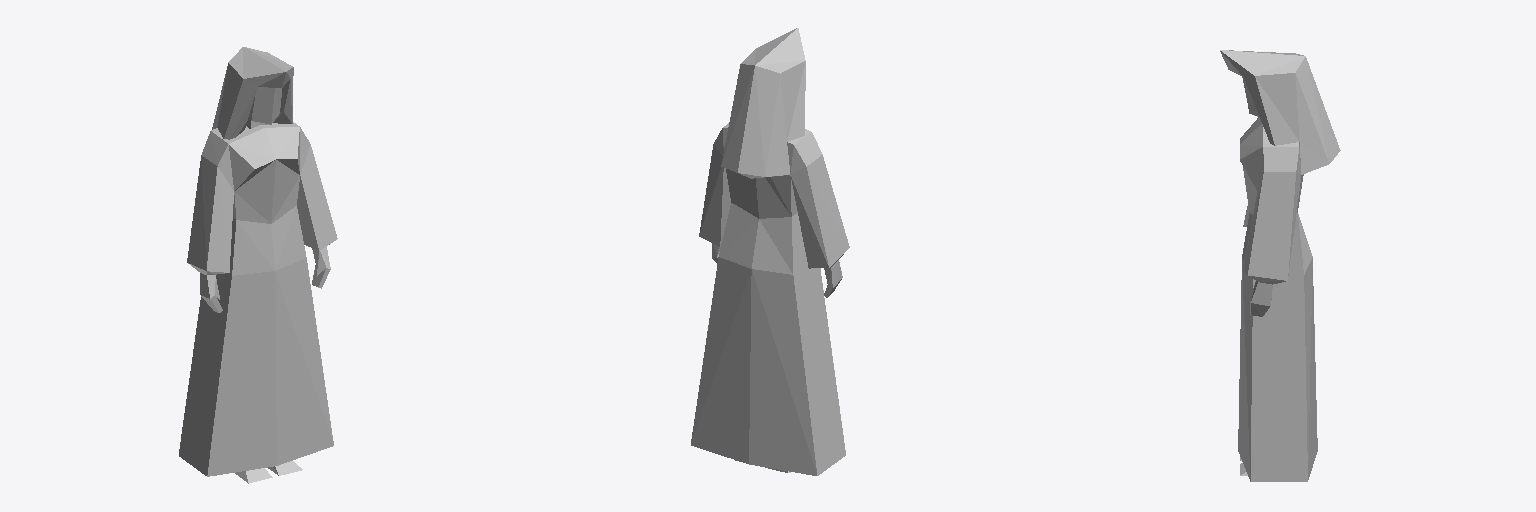
Rendered from statuewoman1.obj.
3 views of the same model, side by side, from view 1: azimuth 30°, elevation 25°; view 2: azimuth 150°, elevation 25°; view 3: azimuth 270°, elevation 25° (orthographic).
Visible parts, largest first — view 1: Object.1; view 2: Object.1; view 3: Object.1.
Part boxes in pixels (bbox=[...]): Object.1: bbox=[179, 47, 337, 483]; Object.1: bbox=[691, 28, 849, 475]; Object.1: bbox=[1220, 50, 1340, 481].
Size of the model in its own units: 0.75 by 2.25 by 0.6.